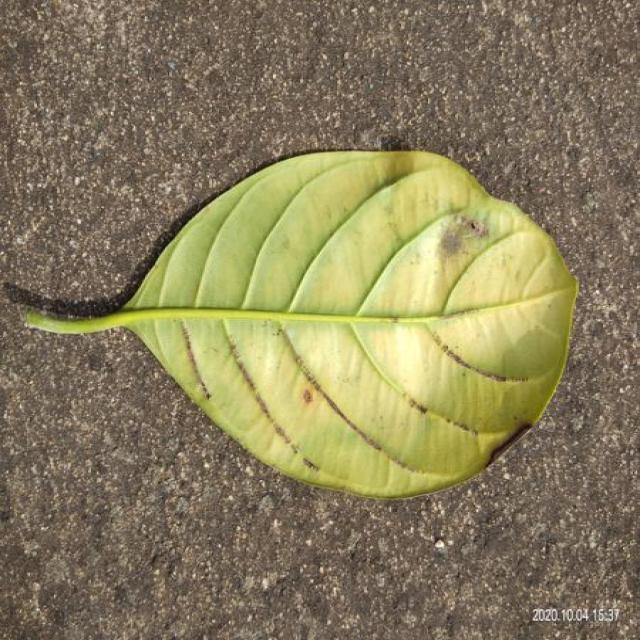Jackfruit: (27, 151, 577, 498)
leaf spot: (223, 152, 567, 497)
